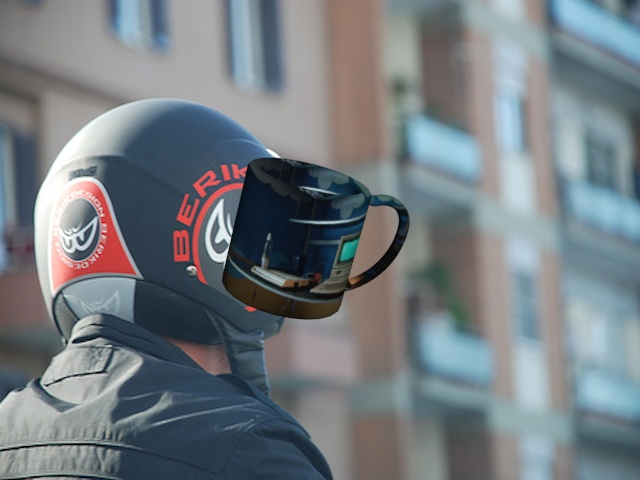mug: (217, 145, 417, 321)
